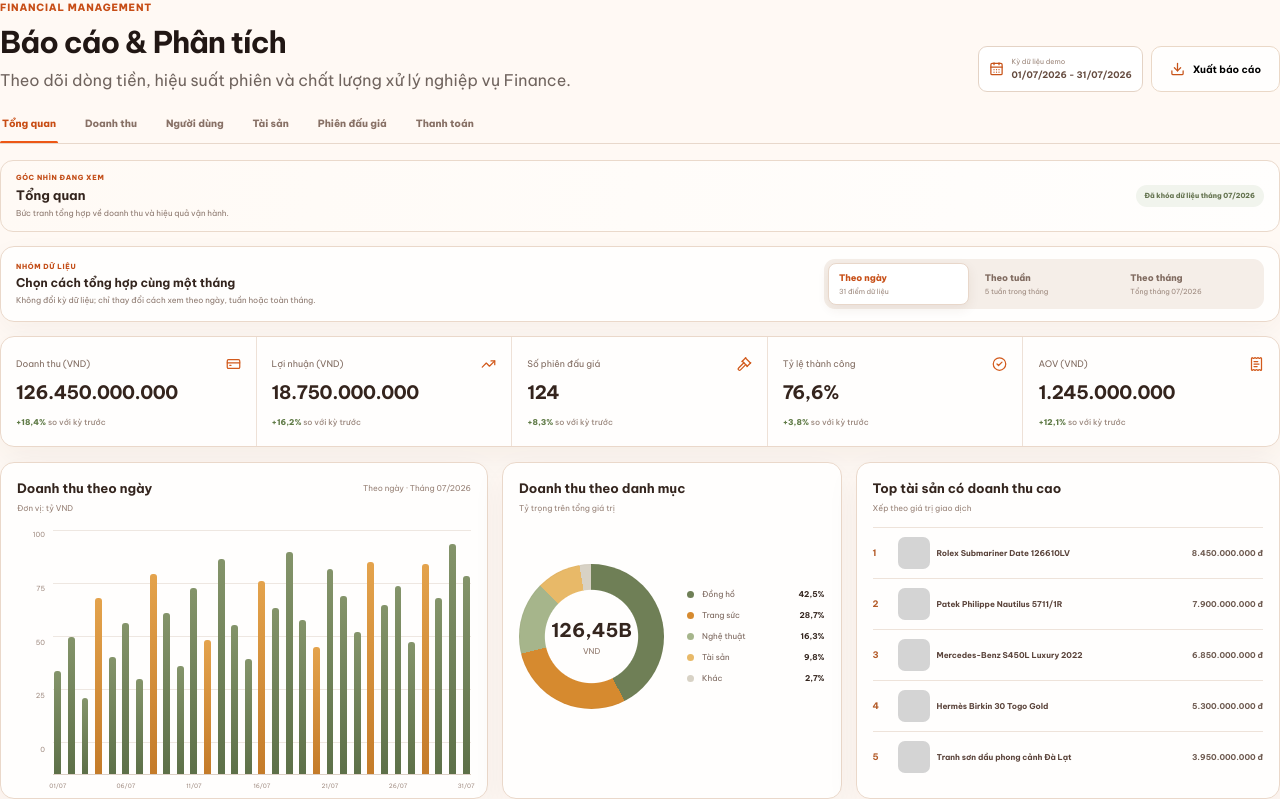
Test: customer payout to Finance UI flow › switches report views and produces visible export feedback
Click the button "Theo tuần 5 tuần trong tháng" at x=1044, y=284, box [974,263,1114,305]
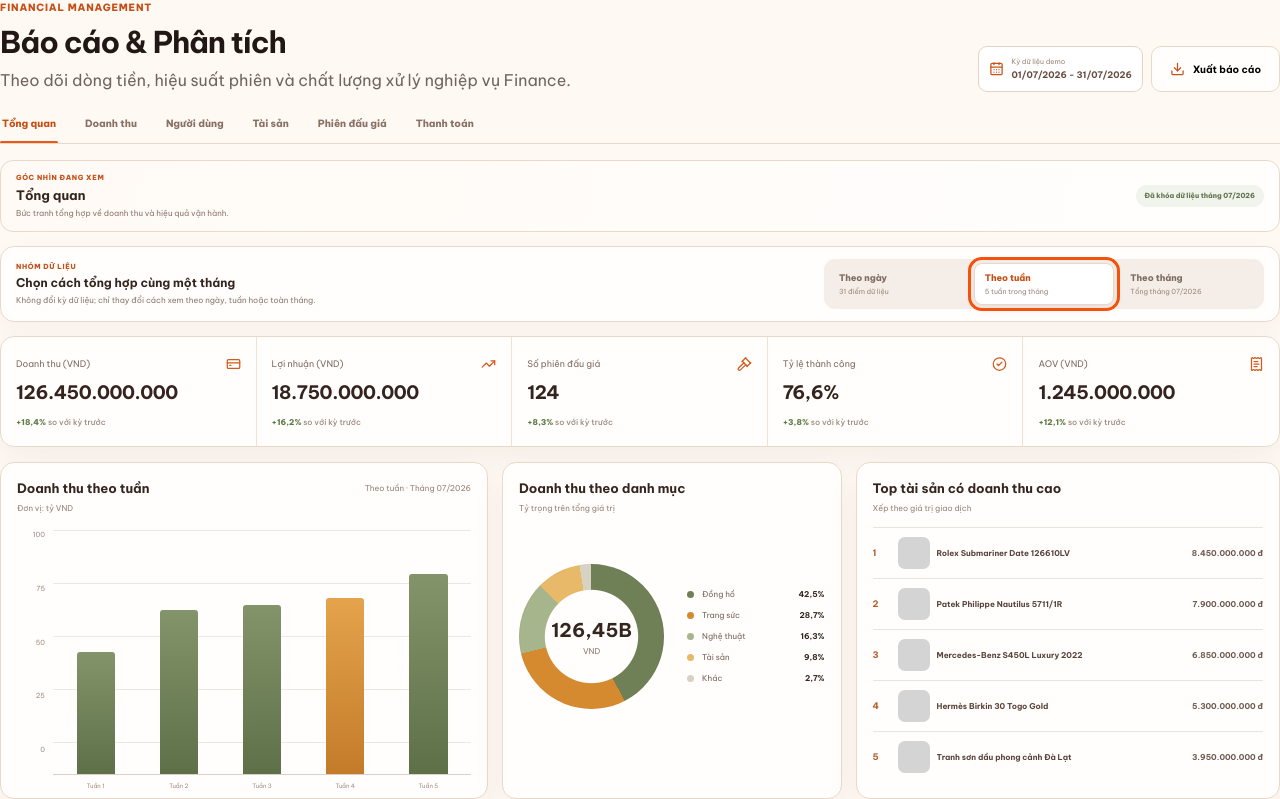
Result: the heading "Doanh thu theo tuần" is shown at [17,479,150,499]
Result: the text "Tuần 5" is shown at [419,782,438,791]
Click the button "Theo tháng Tổng tháng 07/2026" at x=1190, y=284, box [1119,263,1260,305]
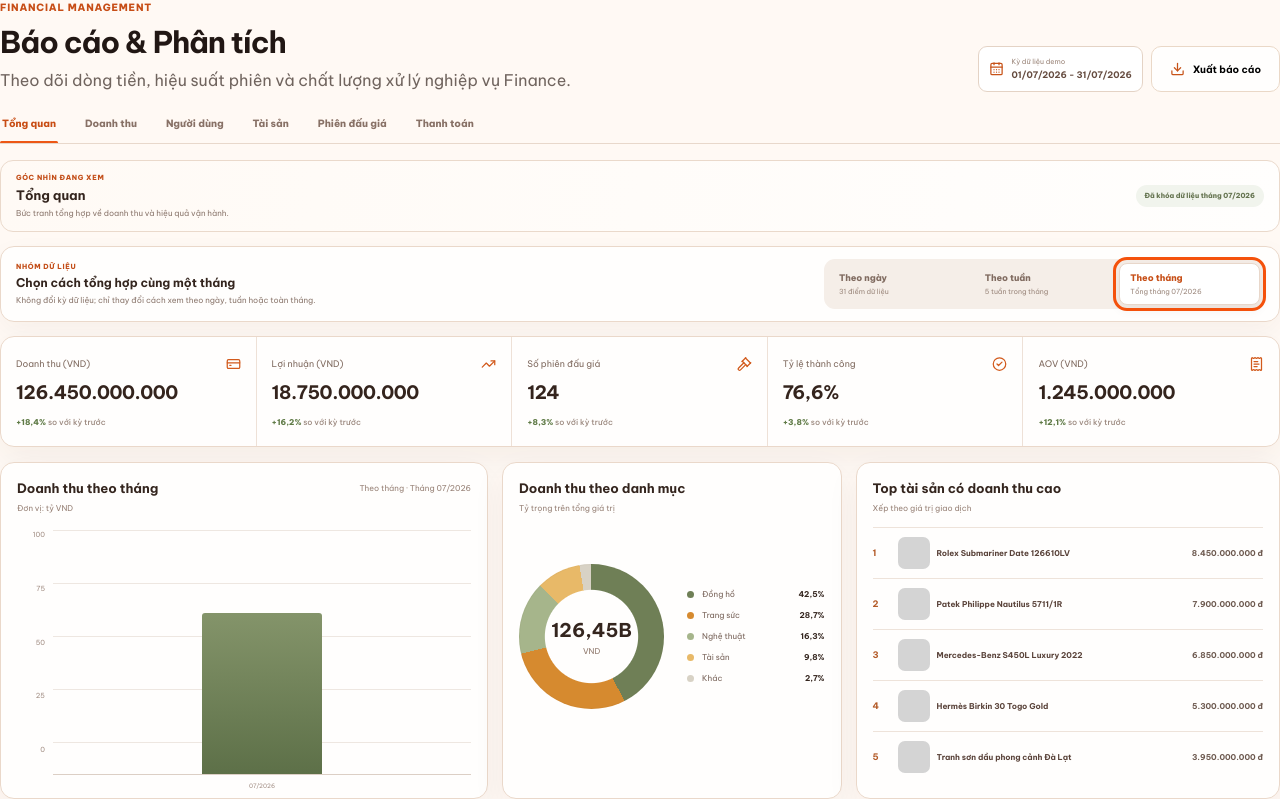
Result: the heading "Doanh thu theo tháng" is shown at [17,479,158,499]
Click the button "Thanh toán" at x=445, y=130, box [414,116,476,143]
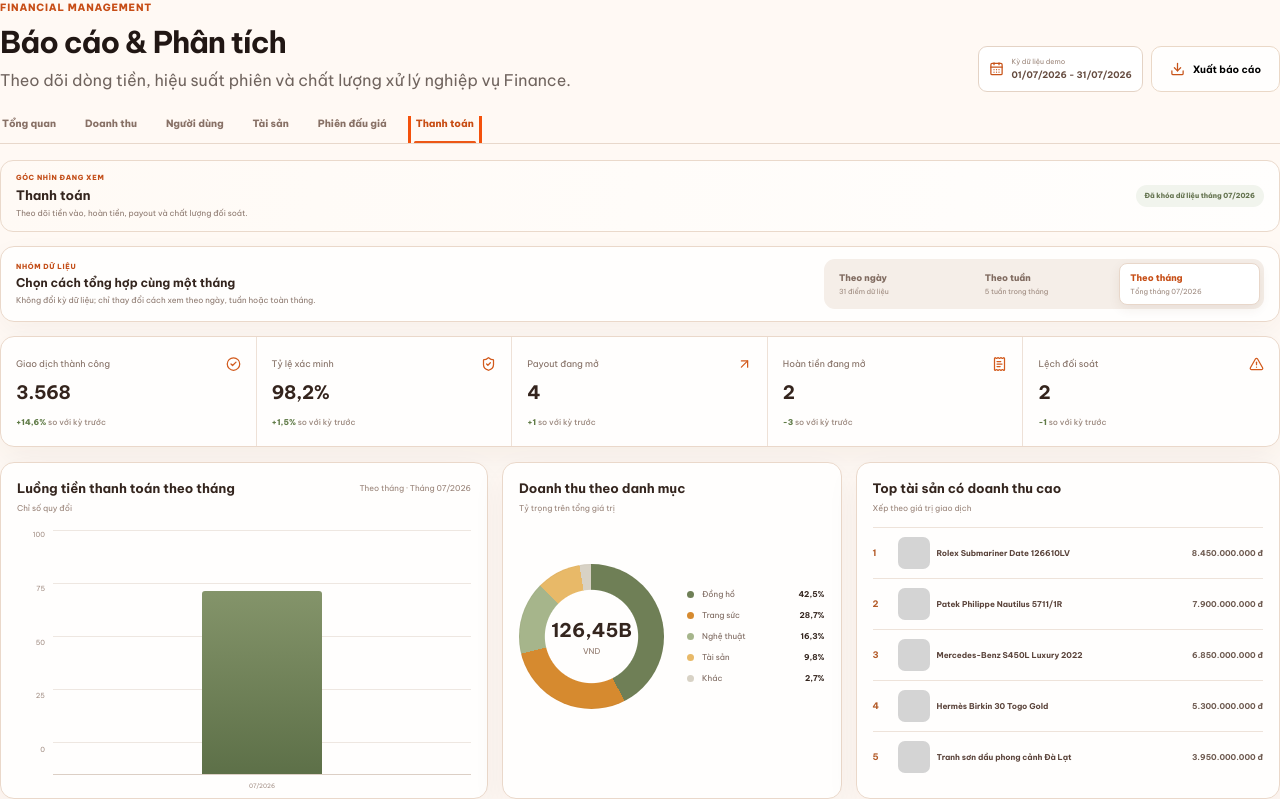
Result: the text "Giao dịch thành công" is shown at [16,357,110,371]
Result: the text "Theo dõi tiền vào, hoàn tiền, payout và chất lượng đối soát." is shown at [16,207,248,219]
Click the button "Xuất báo cáo" at x=1215, y=69, box [1151,46,1279,92]
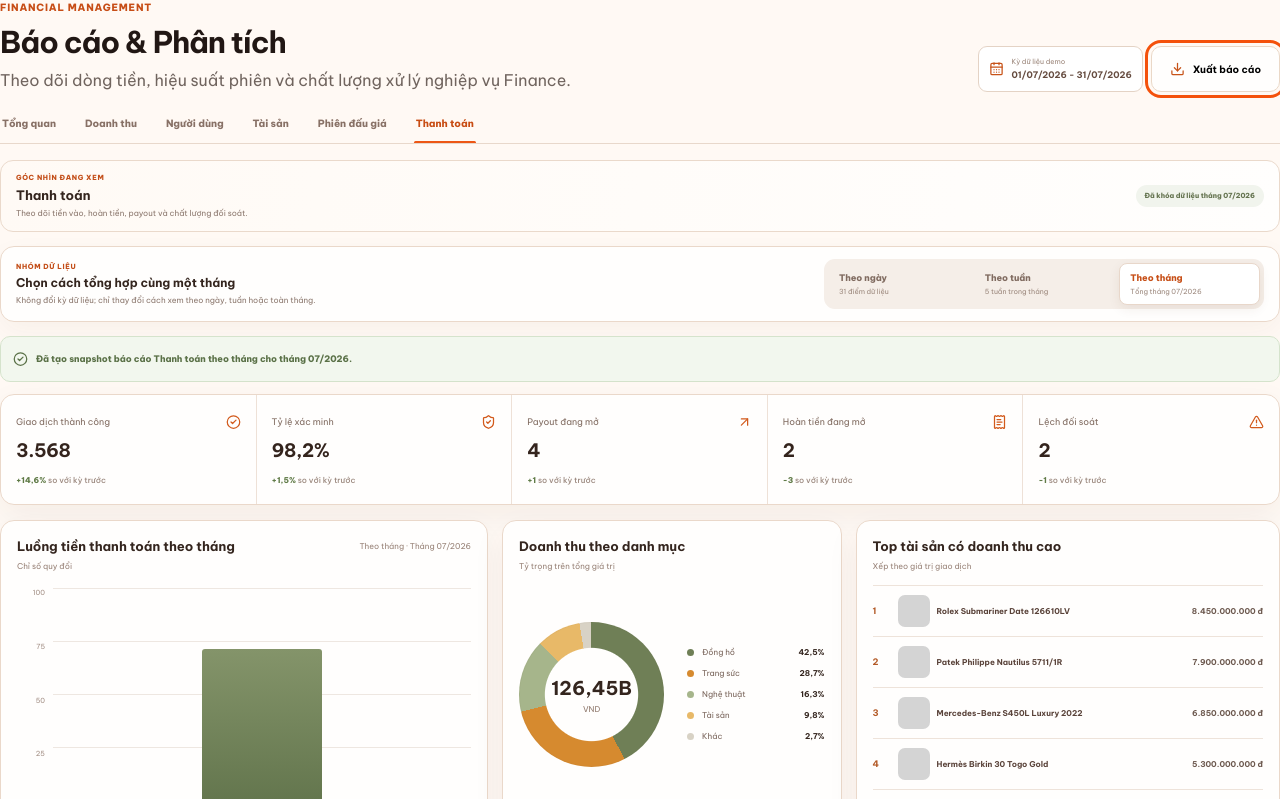
Result: the message shows "Đã tạo snapshot báo cáo Thanh toán theo tháng cho tháng 07/2026" at [36,353,352,364]
